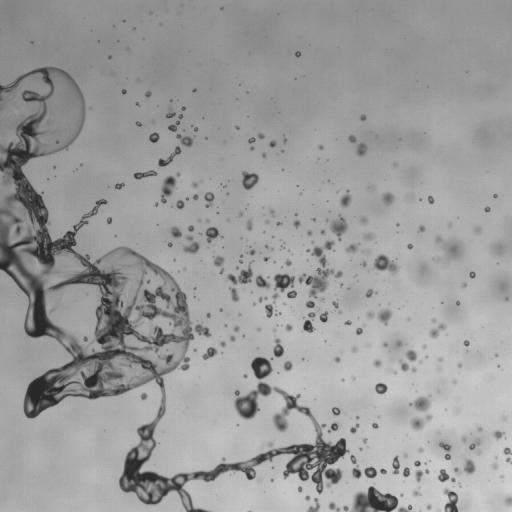droplet: (298, 240, 342, 301), (350, 455, 377, 478), (435, 236, 460, 260), (373, 254, 399, 273), (329, 215, 347, 240), (409, 395, 432, 412), (443, 488, 459, 511), (410, 414, 432, 429), (183, 235, 199, 254), (242, 171, 258, 189), (255, 274, 270, 289), (438, 469, 455, 482), (205, 227, 219, 242), (377, 309, 391, 324), (213, 255, 224, 273), (491, 241, 505, 255), (176, 134, 192, 146), (273, 338, 283, 357), (340, 190, 351, 207), (306, 498, 320, 511), (202, 347, 217, 359), (463, 459, 475, 474), (415, 469, 429, 481), (374, 382, 387, 394), (204, 192, 214, 207), (356, 143, 367, 156), (383, 192, 394, 204), (170, 226, 181, 237), (406, 350, 417, 361), (346, 243, 359, 252), (168, 121, 179, 131), (328, 422, 339, 432), (149, 132, 159, 142), (283, 360, 292, 371), (493, 430, 504, 439), (165, 109, 175, 118), (319, 311, 327, 322), (350, 424, 359, 433), (364, 232, 374, 240), (331, 407, 341, 415), (402, 467, 410, 477), (287, 290, 296, 298), (505, 494, 511, 506), (348, 135, 356, 143), (176, 200, 184, 208), (359, 216, 367, 224), (366, 289, 374, 297), (373, 359, 381, 367), (246, 220, 252, 230), (247, 248, 255, 255), (115, 183, 124, 189), (332, 300, 338, 309), (269, 140, 276, 147), (293, 220, 300, 227), (367, 311, 374, 318), (285, 324, 292, 331), (248, 137, 255, 143), (428, 196, 434, 203), (418, 225, 425, 231), (285, 259, 291, 266), (469, 271, 475, 278), (454, 467, 460, 474), (413, 490, 420, 496), (145, 91, 151, 97), (360, 114, 366, 120), (484, 206, 490, 212), (188, 225, 194, 231), (356, 328, 362, 334), (334, 356, 340, 362), (141, 393, 147, 399), (372, 422, 378, 428), (414, 460, 420, 466), (380, 468, 386, 474), (492, 462, 497, 469), (258, 133, 264, 138), (192, 182, 197, 188), (475, 227, 480, 233), (345, 320, 351, 325), (234, 325, 239, 331), (230, 335, 235, 341), (220, 341, 225, 347), (464, 340, 469, 346), (351, 347, 357, 352), (295, 51, 300, 56), (136, 121, 141, 126), (193, 194, 198, 199), (320, 229, 325, 234), (307, 230, 312, 235), (407, 244, 412, 249), (461, 436, 466, 441), (305, 495, 310, 500), (270, 210, 274, 216), (107, 217, 111, 223), (298, 486, 302, 492), (121, 89, 126, 93), (318, 145, 323, 149), (238, 212, 242, 217), (167, 242, 172, 246), (435, 257, 440, 261), (361, 262, 366, 266), (462, 282, 466, 287), (397, 341, 401, 346), (362, 438, 367, 442), (418, 448, 423, 452), (427, 504, 431, 509), (250, 146, 254, 150), (264, 257, 268, 261), (456, 301, 460, 305), (432, 318, 436, 322), (422, 344, 426, 348), (457, 363, 461, 367), (243, 374, 247, 378), (478, 427, 482, 431), (179, 114, 182, 119), (276, 222, 281, 225), (410, 195, 413, 199), (493, 194, 497, 197), (154, 203, 158, 206), (207, 313, 210, 317), (383, 343, 387, 346), (392, 371, 396, 374), (182, 107, 185, 110), (194, 127, 197, 130), (283, 139, 286, 142), (262, 153, 265, 156), (393, 163, 396, 166), (448, 223, 451, 226), (265, 245, 268, 248), (439, 358, 442, 361), (404, 454, 407, 457), (257, 479, 261, 481), (108, 56, 111, 58), (136, 103, 139, 105), (236, 126, 238, 129), (198, 219, 200, 222), (311, 218, 314, 220), (239, 260, 242, 262), (147, 280, 150, 282), (257, 328, 259, 331), (453, 380, 456, 382), (478, 451, 480, 454), (500, 475, 502, 478), (270, 479, 273, 481), (400, 494, 403, 496), (193, 89, 195, 91), (222, 184, 224, 186), (396, 223, 398, 225), (281, 246, 283, 248), (253, 303, 255, 305), (407, 318, 409, 320), (495, 354, 497, 356), (504, 417, 506, 419)
ligament: (0, 67, 345, 511), (328, 486, 414, 511), (265, 273, 294, 317), (225, 261, 252, 301), (160, 173, 180, 203), (302, 300, 319, 332), (158, 146, 181, 166), (429, 323, 446, 338), (398, 359, 416, 372), (133, 170, 157, 179), (439, 442, 451, 459), (503, 447, 511, 464), (392, 455, 399, 474), (469, 439, 479, 449), (258, 297, 267, 302), (45, 121, 51, 125)
